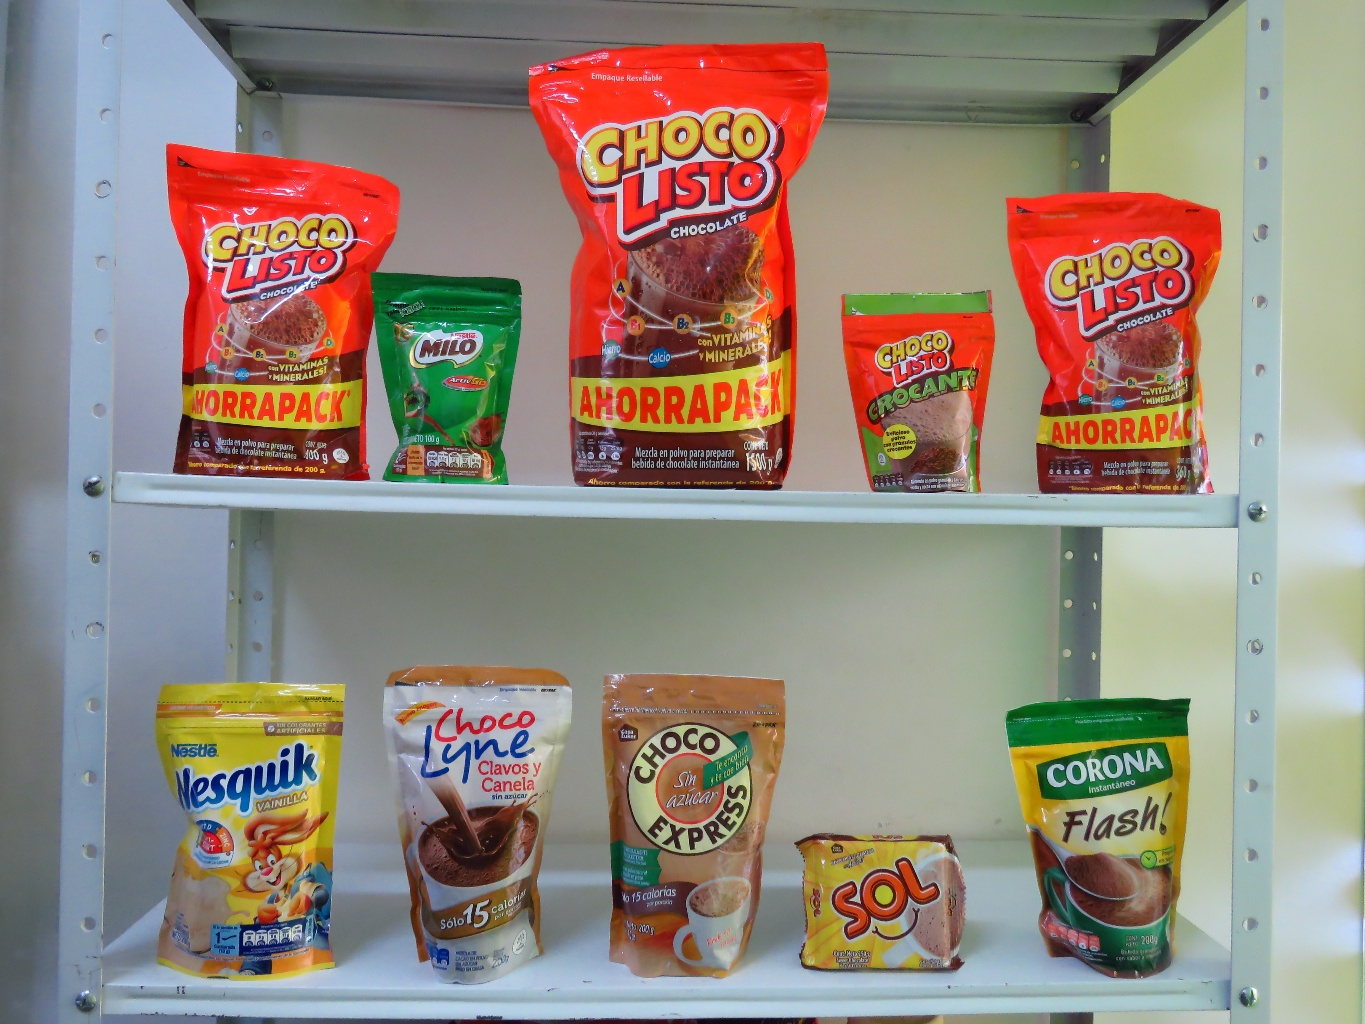COL0170102DYP10000: (835, 285, 1003, 494)
COL0170103DYP1,500: (516, 35, 831, 490)
COL0170103DYP36000: (1004, 190, 1229, 495)
COL0170103DYP40000: (153, 141, 401, 472)
COL0170203DYP10000: (370, 269, 527, 484)
COL0170306DYP20000: (153, 682, 351, 981)
